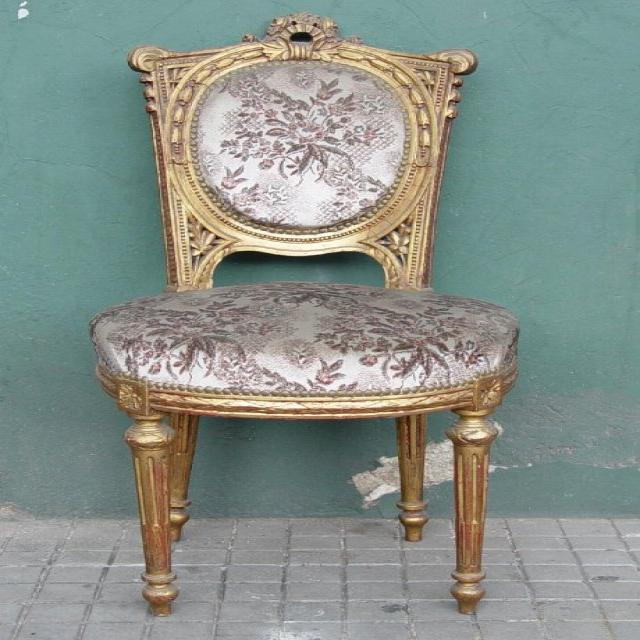Chair: (46, 9, 556, 622)
